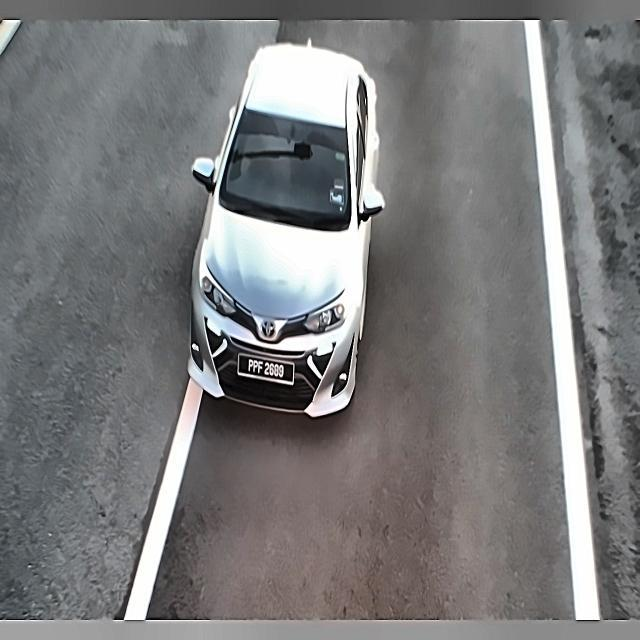car: (232, 345, 299, 392)
